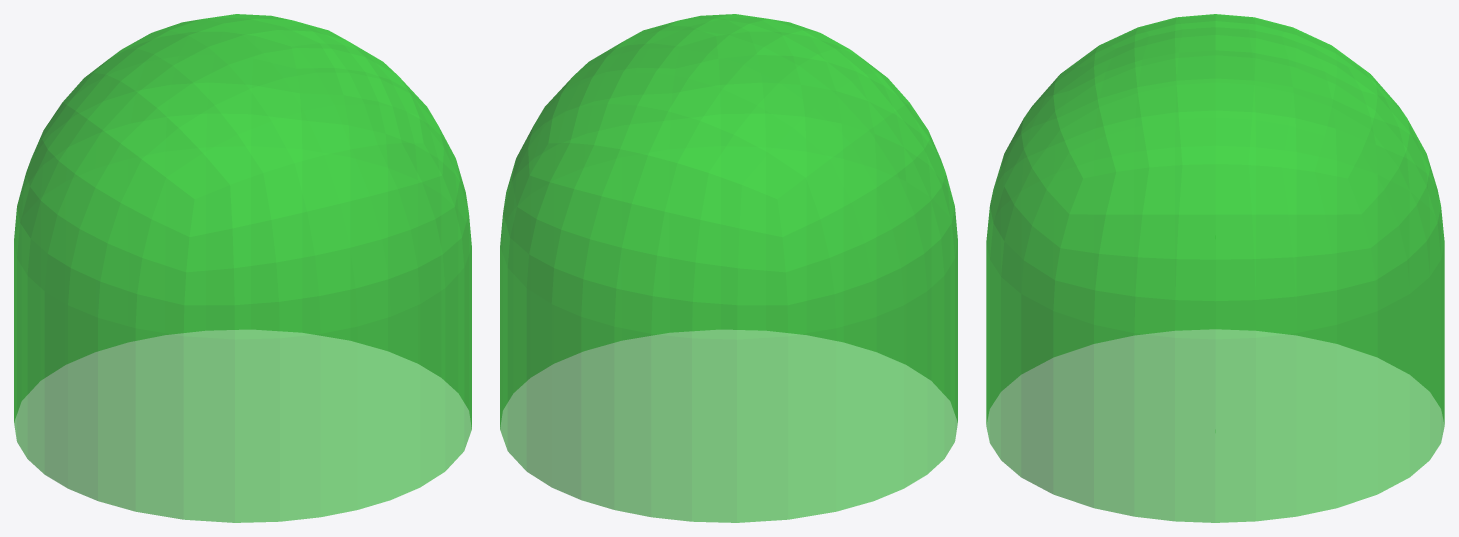
File: Green Light.fbx
3 views of the same model, side by side, from view 1: azimuth 30°, elevation 25°; view 2: azimuth 150°, elevation 25°; view 3: azimuth 270°, elevation 25° (orthographic).
Visible parts, largest first — view 1: Green Light Bulb; view 2: Green Light Bulb; view 3: Green Light Bulb.
Part boxes in pixels (x1,y1,x2,y2): Green Light Bulb: (14, 14, 471, 522); Green Light Bulb: (500, 14, 957, 522); Green Light Bulb: (986, 14, 1444, 522).
Size of the model in its own units: 12.69 by 11.95 by 12.69.
